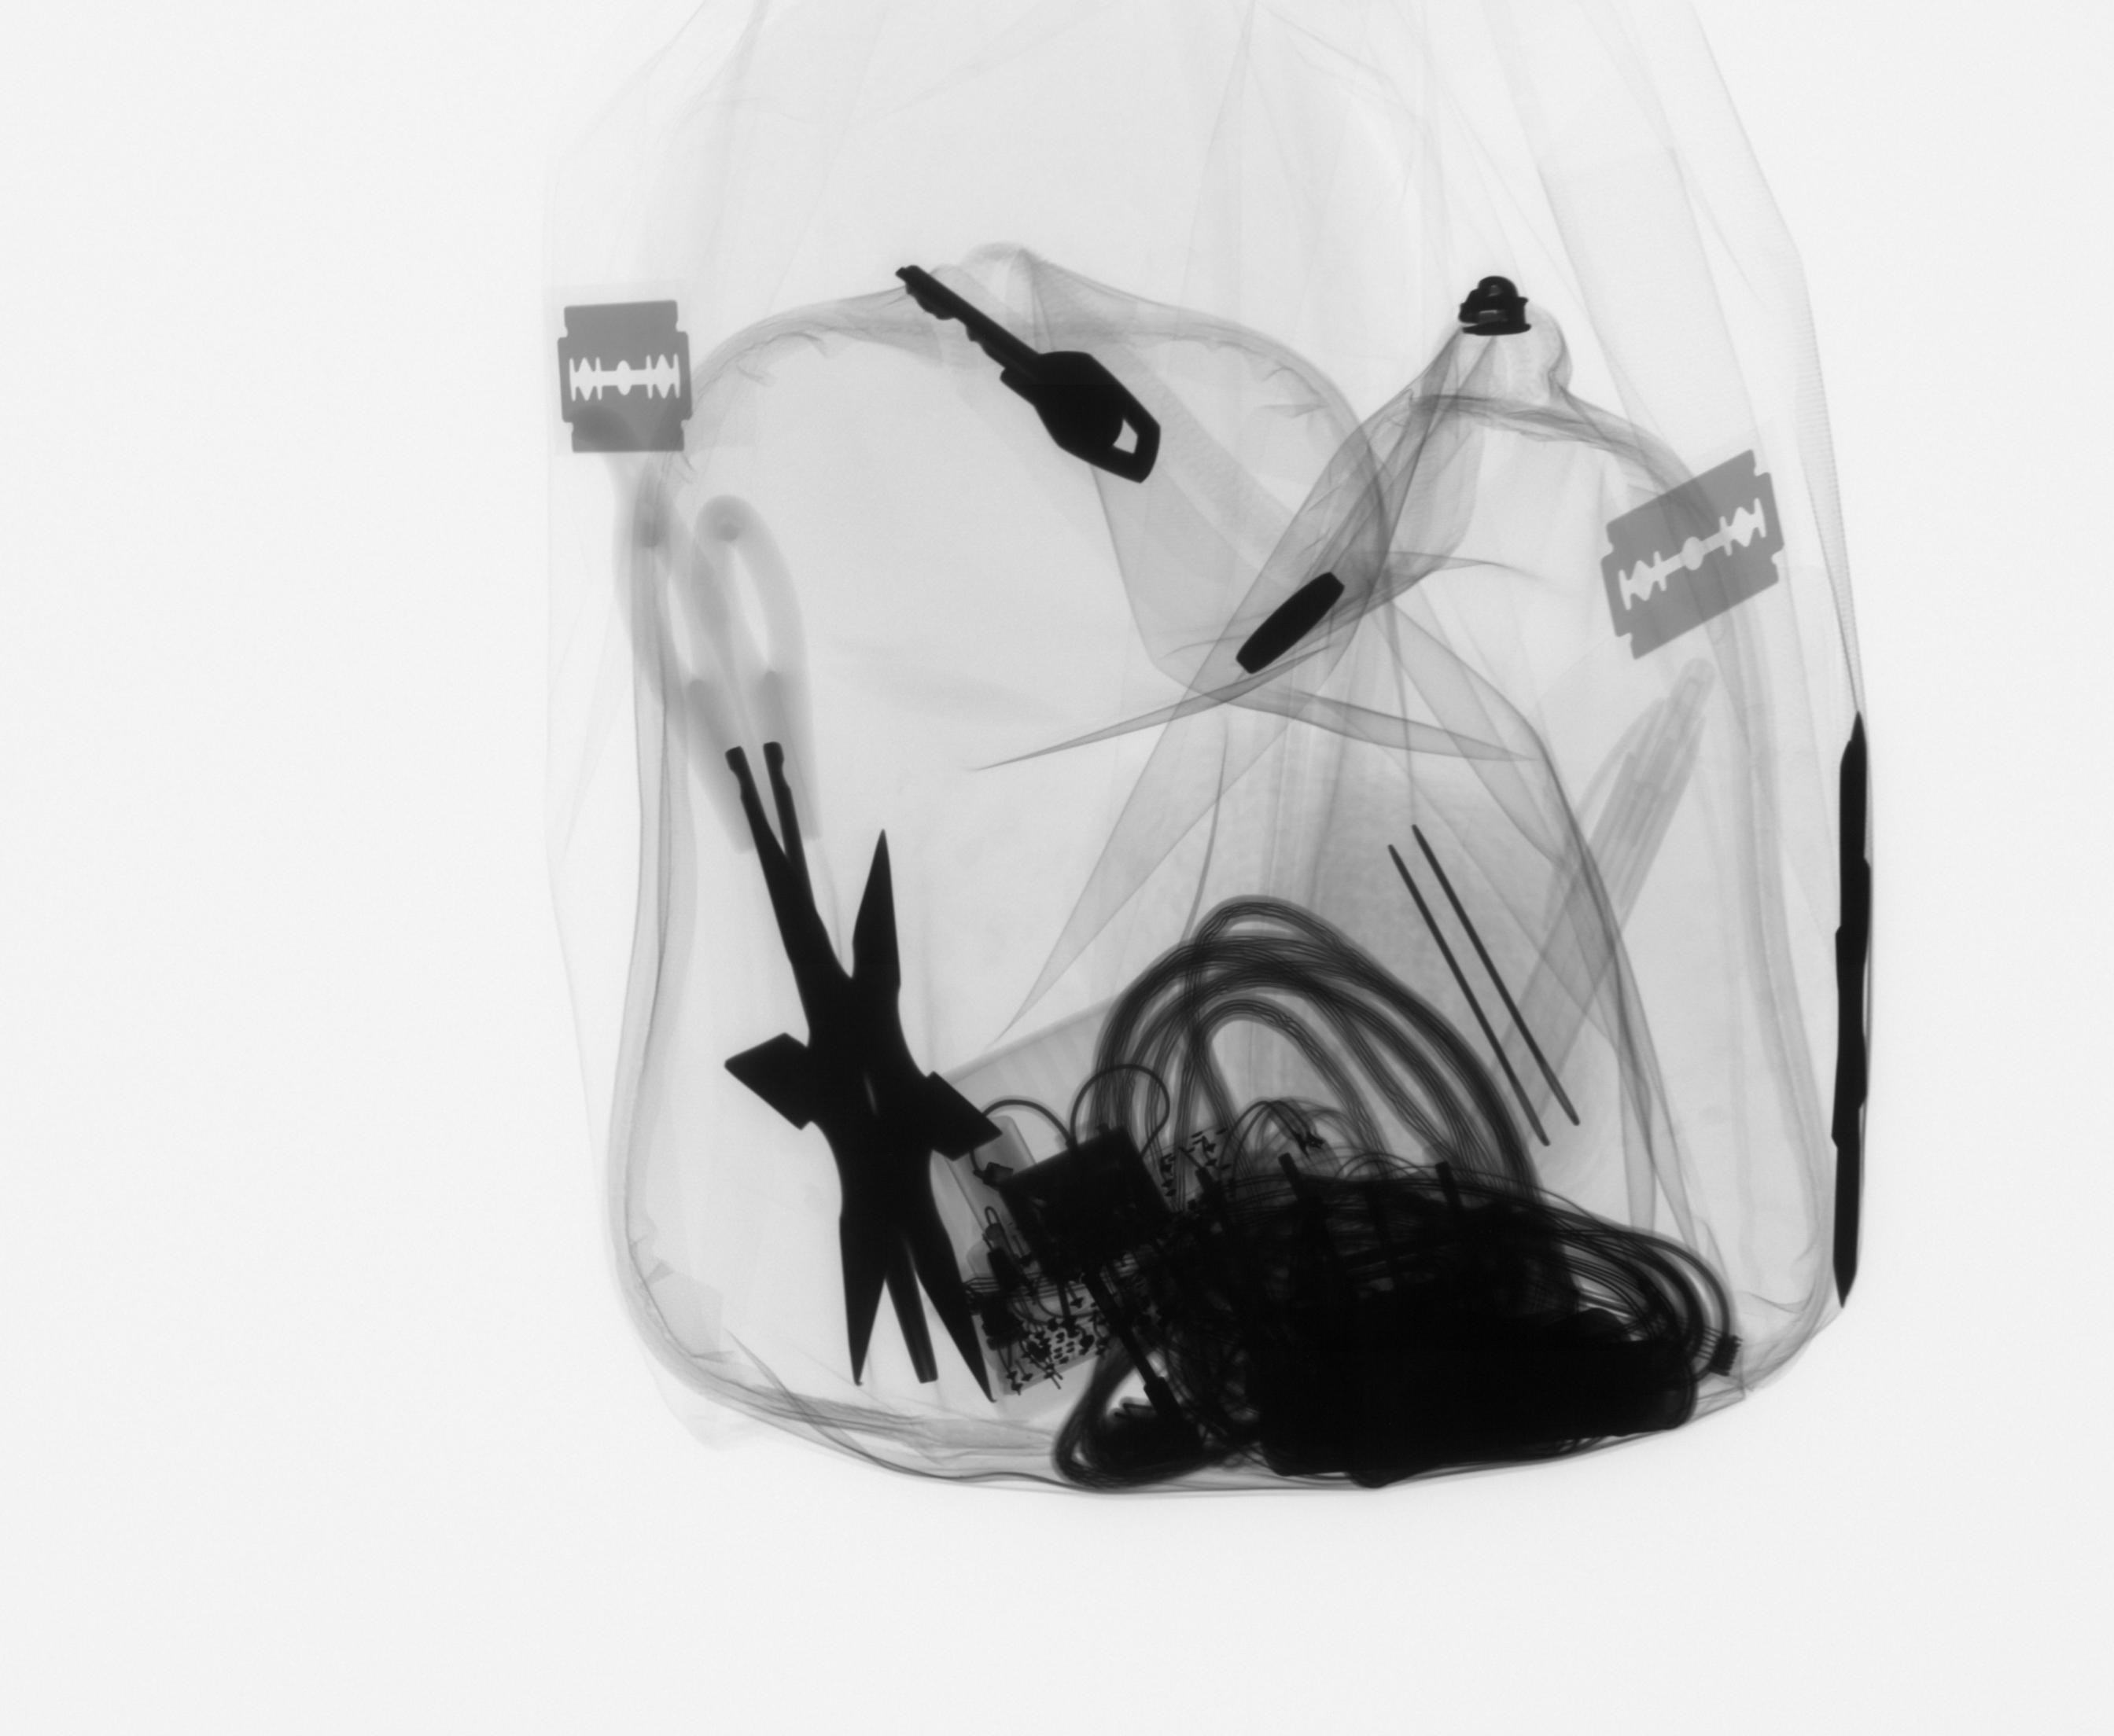RazorBlade: (1589, 446, 1810, 672), (544, 288, 716, 470)
Shuriken: (704, 851, 1031, 1443), (1808, 714, 1924, 1339)
